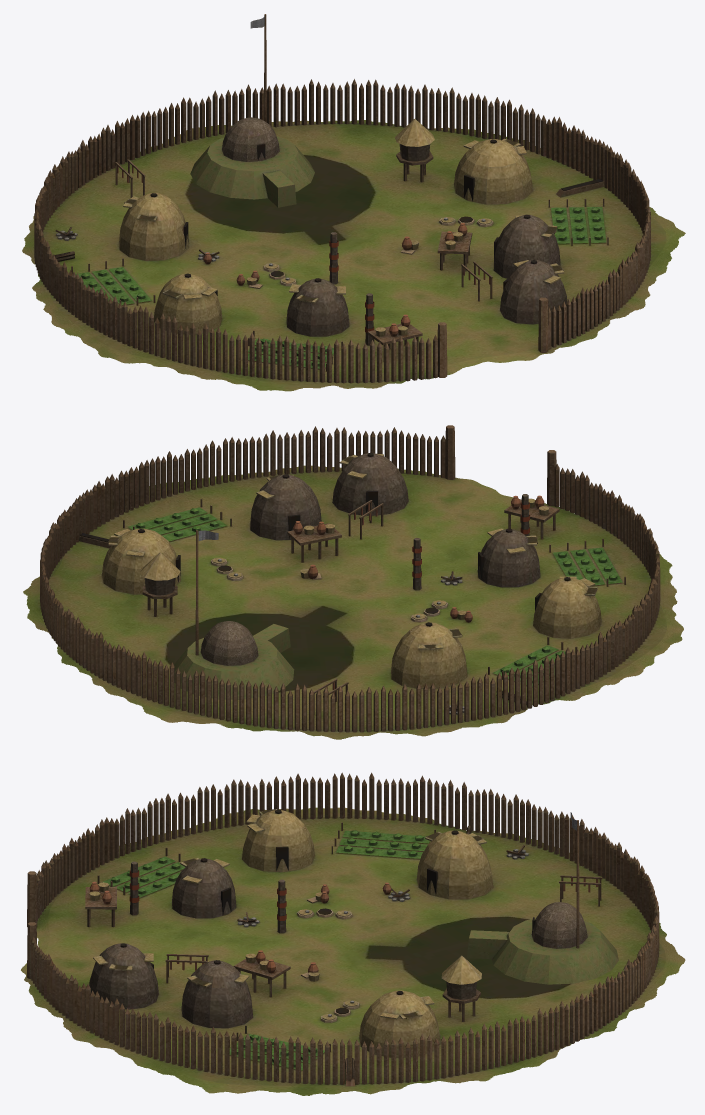
The model's file is stone-town-small-a-americas.glb.
3 renders of one model, top to bottom at view 1: azimuth 30°, elevation 25°; view 2: azimuth 150°, elevation 25°; view 3: azimuth 270°, elevation 25°, orthographic. The views are drawn at different scales.
Parts seen in each view (by area): view 1: LOD0; view 2: LOD0; view 3: LOD0.
Boxes of the visible parts, <box> form: LOD0: <box>22,14,685,391</box>; LOD0: <box>23,425,683,739</box>; LOD0: <box>21,772,685,1095</box>.
Size of what is drawn, in the model's own units: 3.97 by 0.9701 by 3.87.
3 materials, 3 textured.
